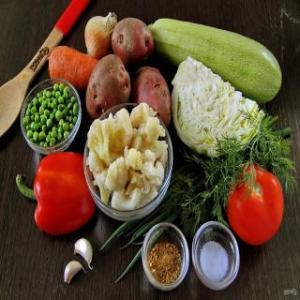bell_pepper: (8, 158, 94, 234)
cabbage: (175, 56, 257, 150)
carrot: (51, 47, 89, 81)
garlic: (63, 236, 95, 286)
onion: (87, 16, 109, 54)
potato: (86, 56, 132, 108), (133, 63, 167, 126), (116, 16, 152, 60)
tomato: (226, 163, 282, 245)
zucchini: (151, 16, 279, 98)
